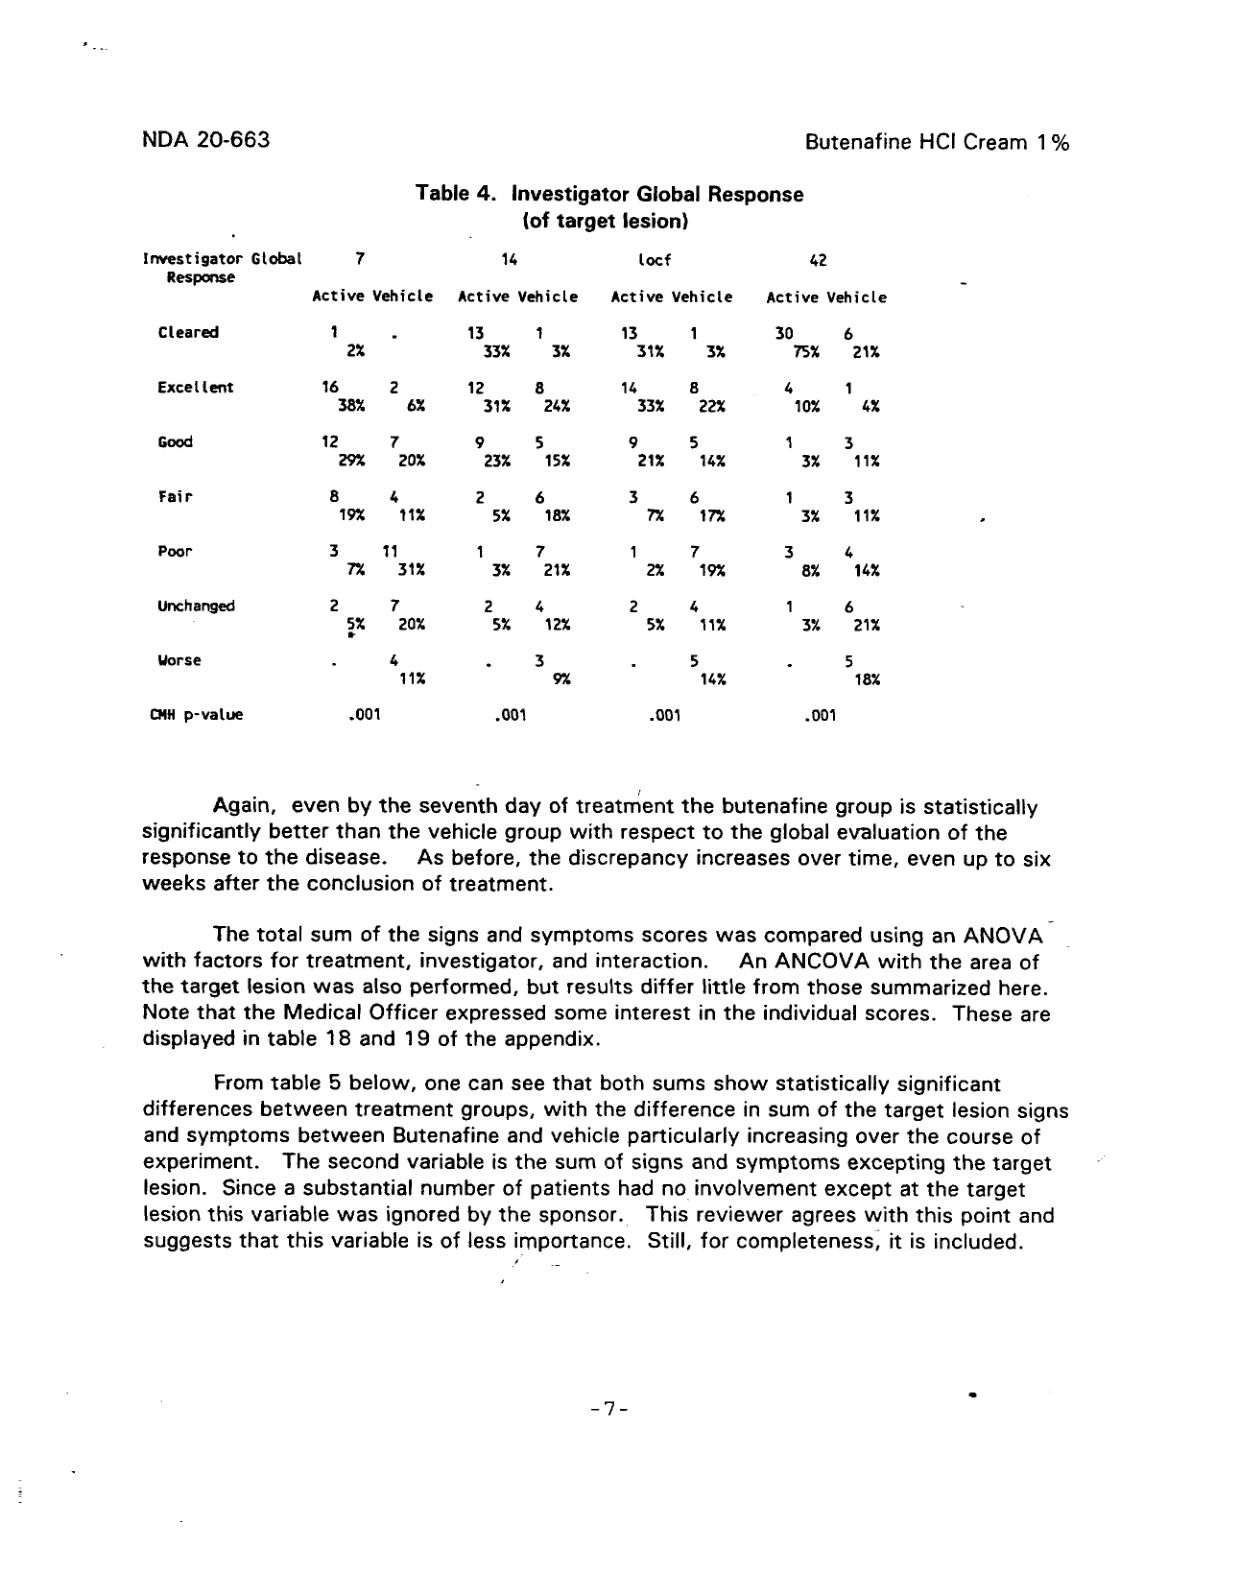nolines: (133, 245, 889, 724)
